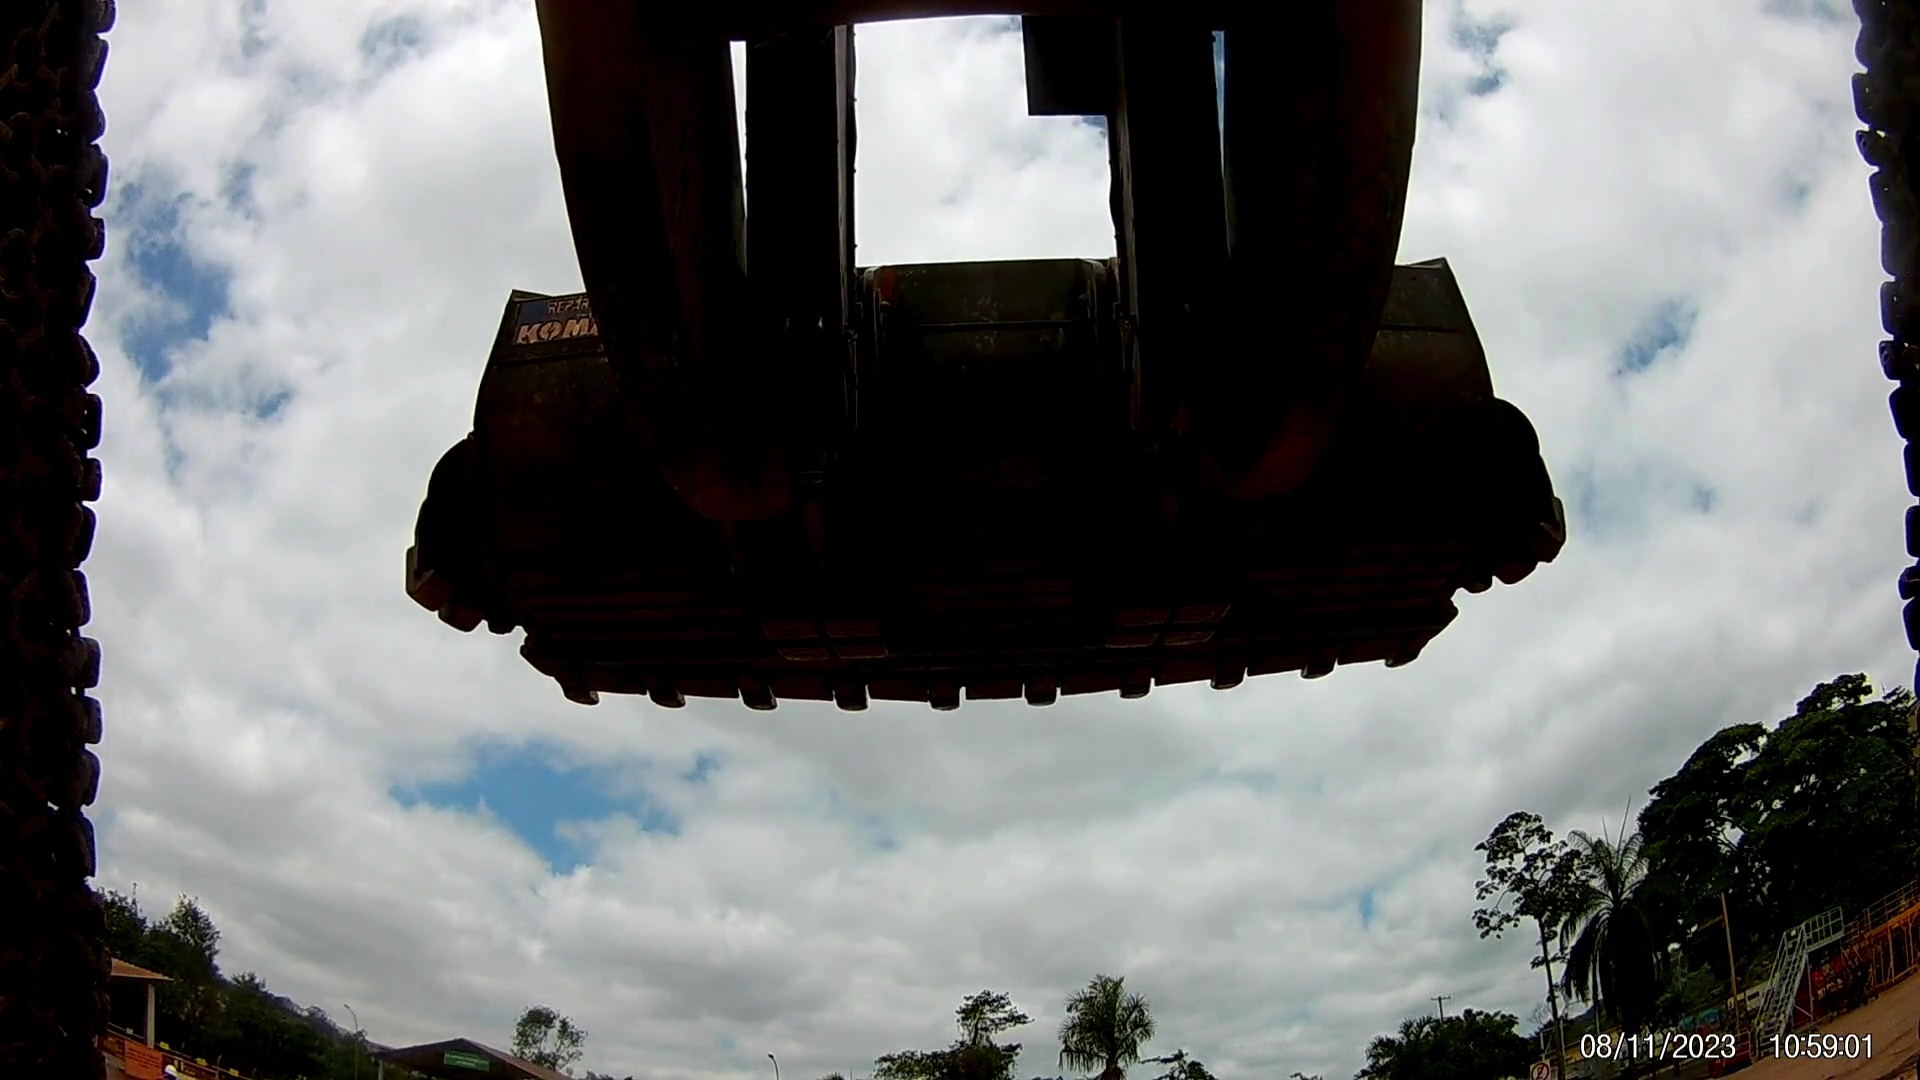FPS: (1199, 644, 1263, 705), (735, 667, 789, 736), (820, 673, 882, 729), (531, 676, 613, 719), (1125, 650, 1166, 723), (1298, 638, 1344, 700), (920, 674, 973, 724), (644, 679, 702, 724), (1025, 662, 1065, 723), (1399, 634, 1427, 691)
